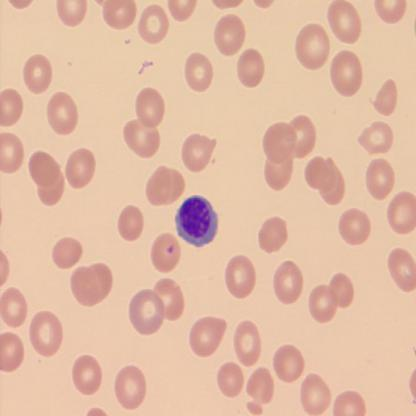NRC: (173, 192, 219, 249)
